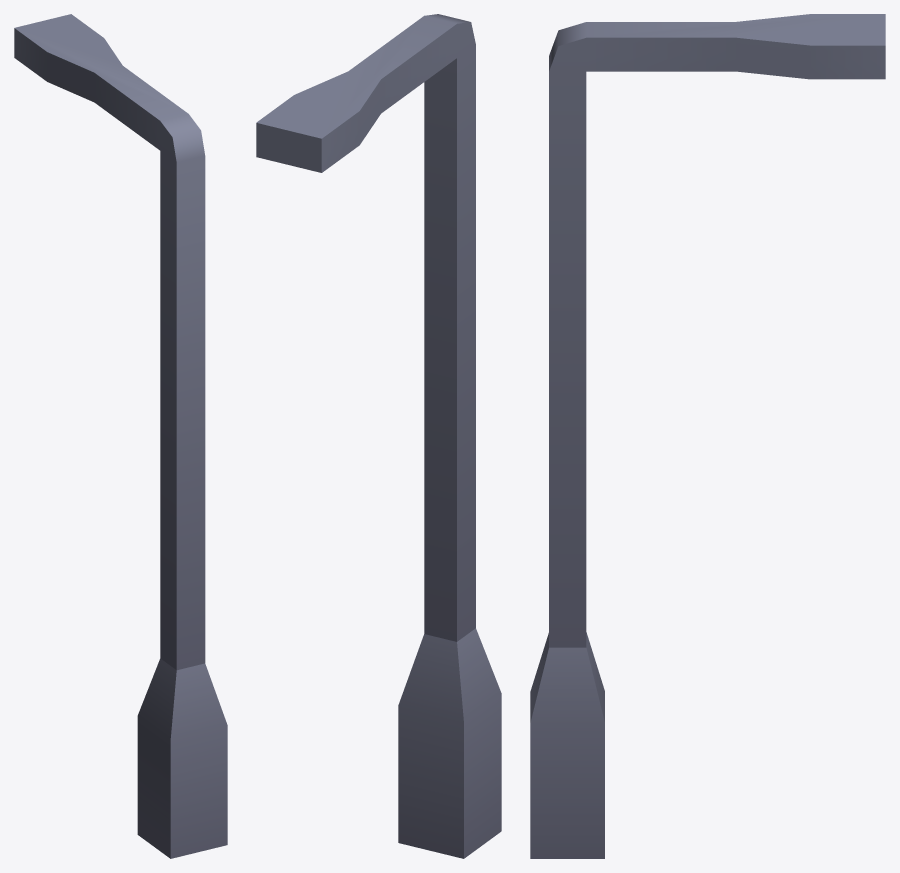
The model's file is rd-light-square.glb.
3 views of the same model, side by side, from view 1: azimuth 30°, elevation 25°; view 2: azimuth 150°, elevation 25°; view 3: azimuth 270°, elevation 25° (orthographic). The views are drawn at different scales.
Parts seen in each view (by area): view 1: light-square; view 2: light-square; view 3: light-square.
Boxes of the visible parts, left/top/right/bottom form: light-square: left=14, top=14, right=227, bottom=858; light-square: left=256, top=14, right=501, bottom=858; light-square: left=530, top=14, right=885, bottom=858.
Bounding box in the file's own units: 0.05 × 0.6 × 0.2375.
1 material, 1 textured.
